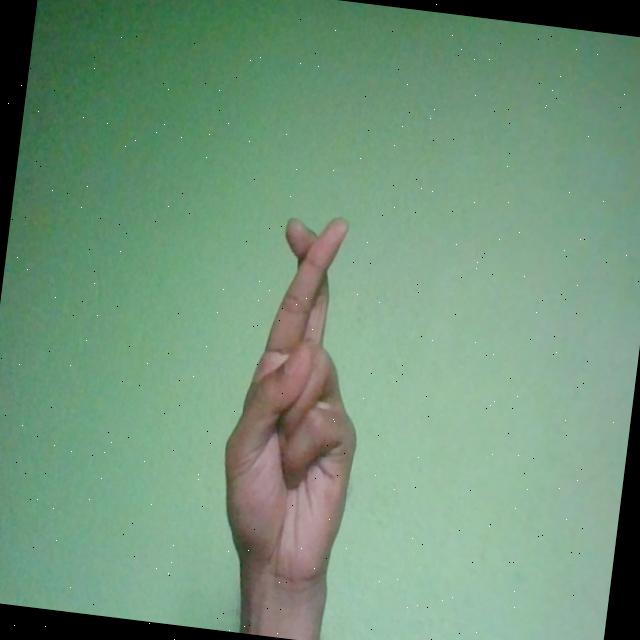Ok: (208, 205, 384, 604)
